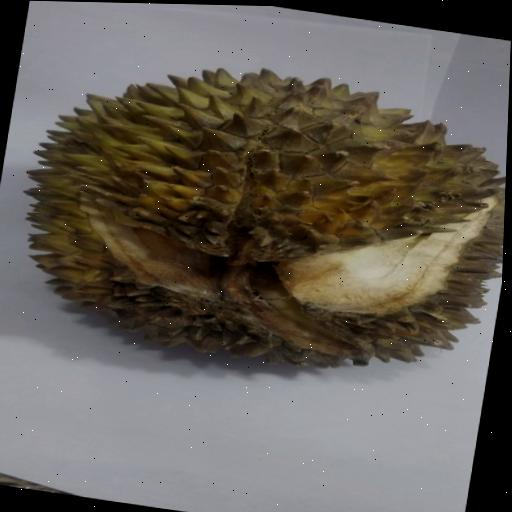rot: (0, 21, 511, 404)
